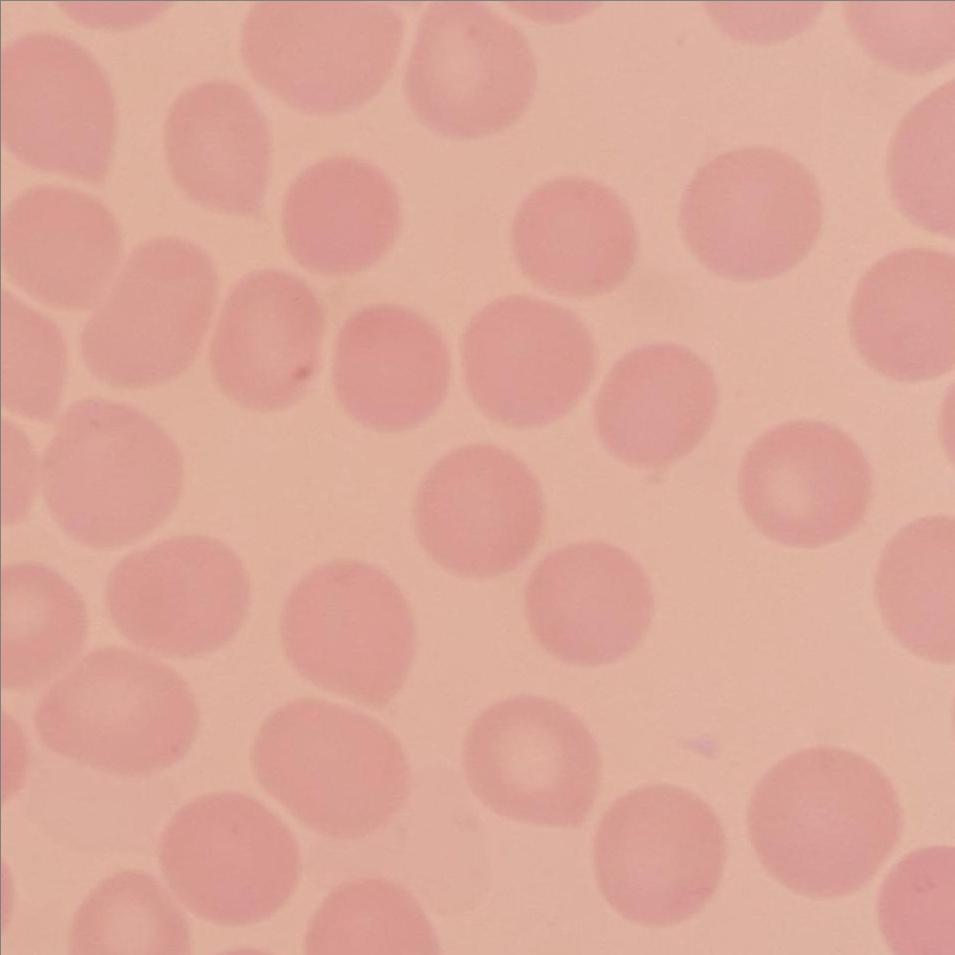Uninfected: (254, 697, 414, 839), (39, 401, 185, 551), (749, 746, 895, 894), (82, 237, 221, 390), (36, 650, 198, 779), (280, 561, 417, 703), (160, 791, 302, 925), (682, 146, 824, 278), (243, 4, 407, 118), (592, 784, 726, 923), (107, 532, 249, 663), (6, 31, 121, 184), (462, 296, 594, 428), (465, 695, 599, 825), (412, 444, 543, 576), (405, 5, 534, 137), (738, 419, 868, 546), (209, 268, 325, 409), (515, 173, 641, 302), (594, 342, 719, 471), (329, 301, 450, 431), (163, 76, 276, 215), (526, 540, 651, 665), (7, 185, 124, 313), (275, 156, 398, 277), (850, 249, 954, 380)
